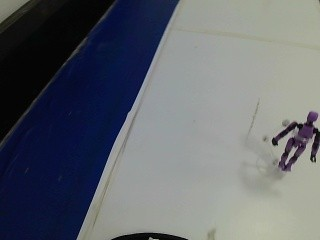pedestrian: (261, 98, 319, 185)
